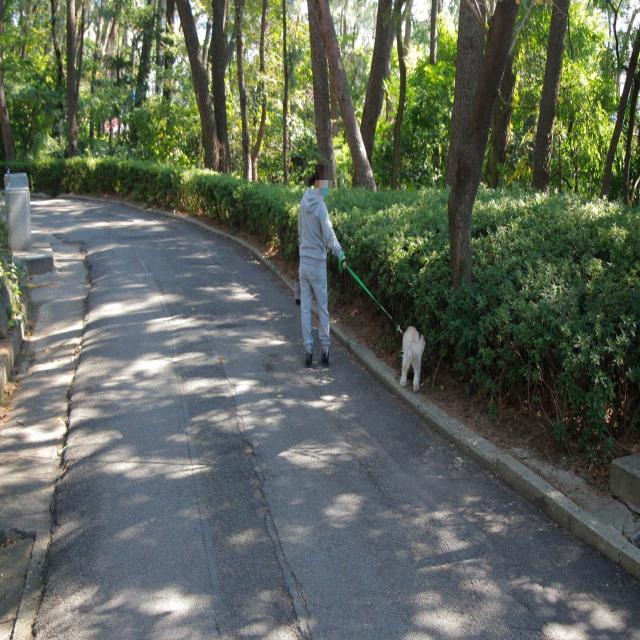Leashed_Dog: (319, 251, 425, 391)
